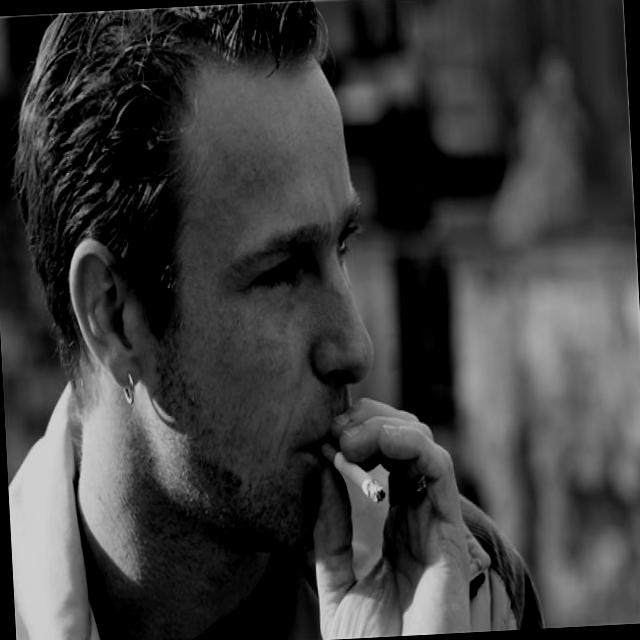smoke: (320, 430, 388, 516)
